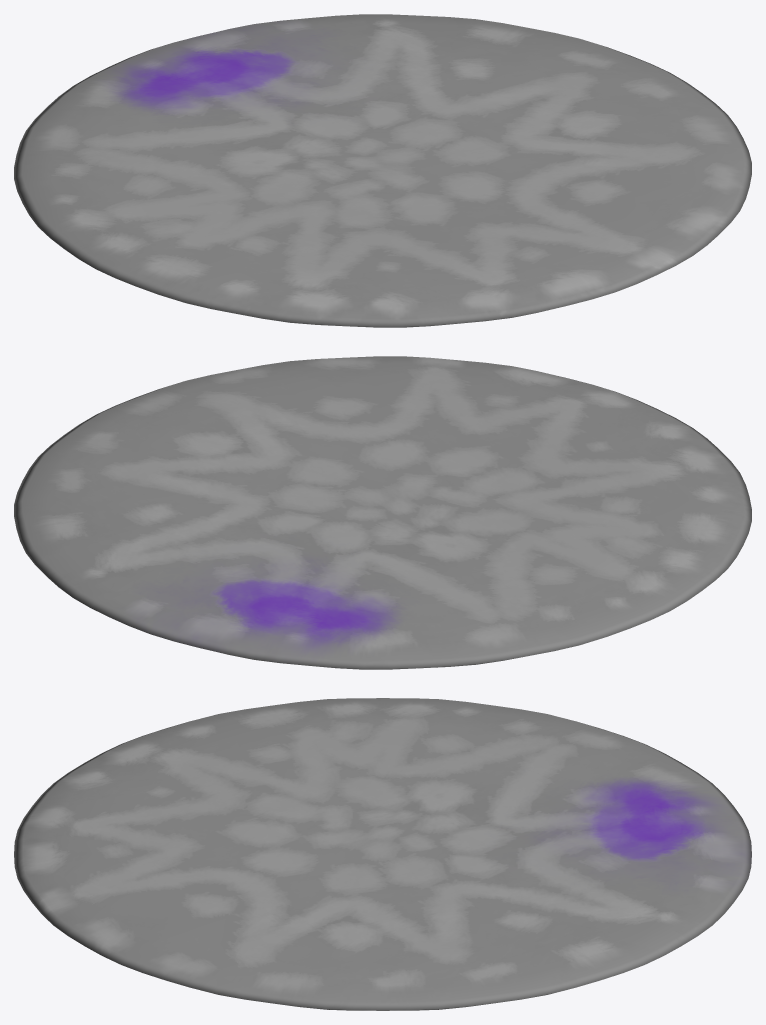
File: carpet.fbx
3 views of the same model, one above another, from view 1: azimuth 30°, elevation 25°; view 2: azimuth 150°, elevation 25°; view 3: azimuth 270°, elevation 25° (orthographic).
Parts seen in each view (by area): view 1: carpet; view 2: carpet; view 3: carpet.
Part boxes in pixels (<box>): carpet: <box>14,14,751,327</box>; carpet: <box>14,356,751,669</box>; carpet: <box>14,698,751,1010</box>.
Size of the model in its own units: 517 by 17.99 by 517.
Materials: 1 (1 with a texture image).
